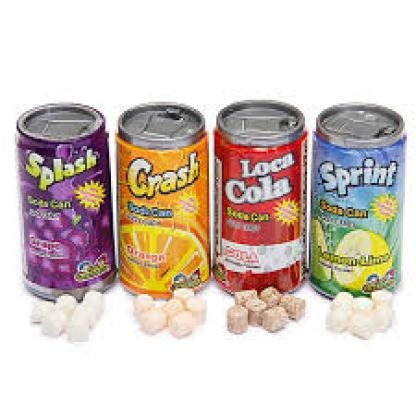trash: (17, 103, 115, 299), (311, 103, 405, 296), (117, 102, 209, 297), (214, 100, 306, 291)
